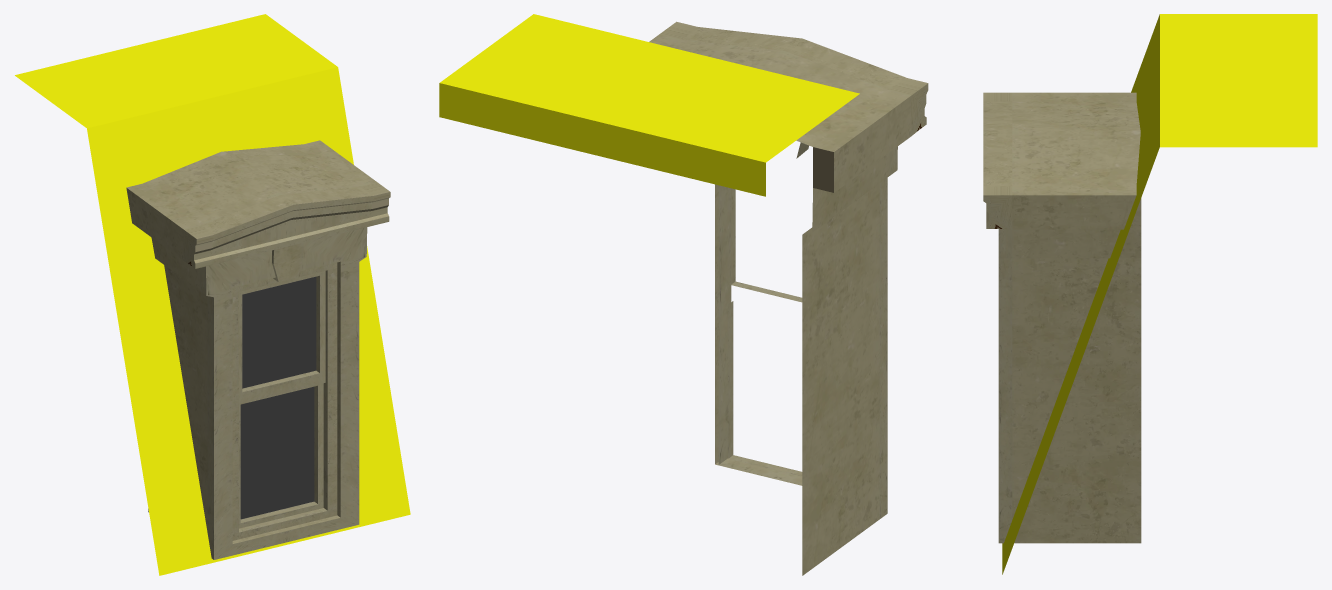
File: roof-slate-window-1.glb
The picture shows the model from 3 angles, left to right: view 1: azimuth 30°, elevation 25°; view 2: azimuth 150°, elevation 25°; view 3: azimuth 270°, elevation 25°; orthographic projection. The views are drawn at different scales.
Parts seen in each view (by area): view 1: Roof_Slate_Window_1; view 2: Roof_Slate_Window_1; view 3: Roof_Slate_Window_1.
Part boxes in pixels (x1,y1,x2,y2): Roof_Slate_Window_1: (15,14,410,575); Roof_Slate_Window_1: (439,14,928,575); Roof_Slate_Window_1: (983,14,1317,574).
Bounding box in the file's own units: 2 × 3 × 2.12.
5 materials, 1 textured.
